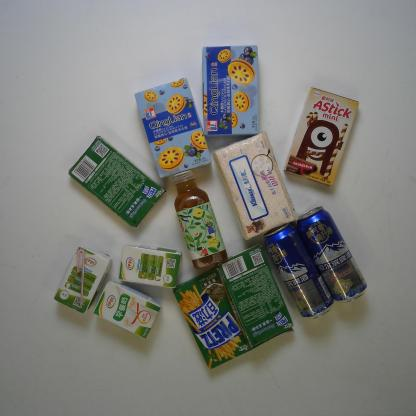Alcohol: (292, 202, 369, 310), (260, 218, 337, 323)
Dessert: (65, 132, 168, 232), (170, 264, 256, 373), (216, 242, 299, 352), (132, 75, 215, 182), (282, 84, 362, 192), (200, 43, 266, 139)
Drink: (168, 166, 229, 272)
Milk: (53, 245, 116, 318), (90, 282, 165, 342), (116, 242, 183, 292)
Tissue: (207, 127, 302, 242)
